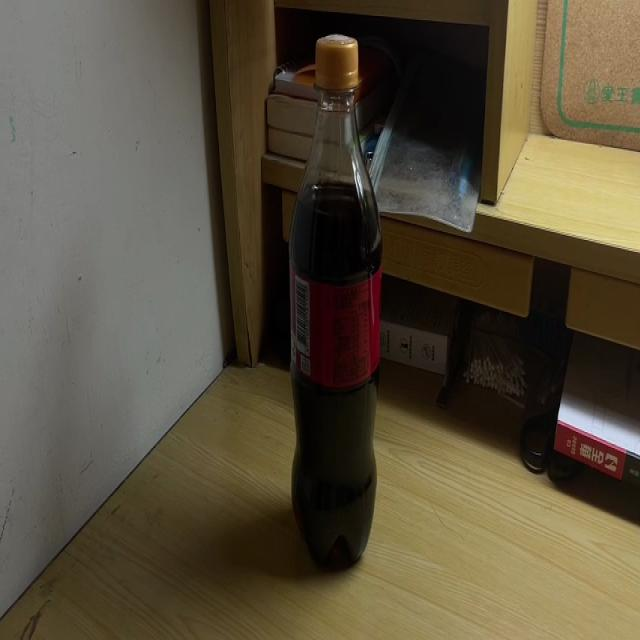Coca-Cola: (292, 33, 381, 565)
